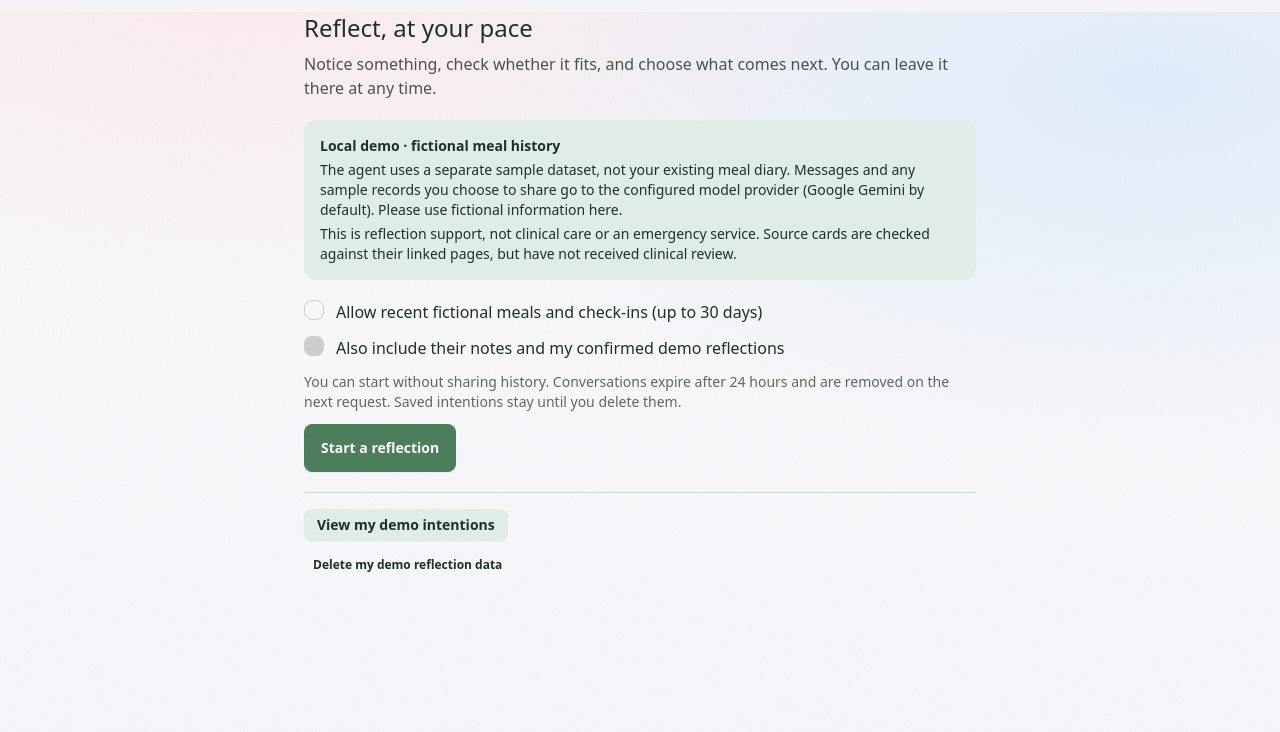
Test case: starts without history permission and preserves input after a failed request
Click the button "Start a reflection" at [380, 448], box [304, 424, 456, 472]
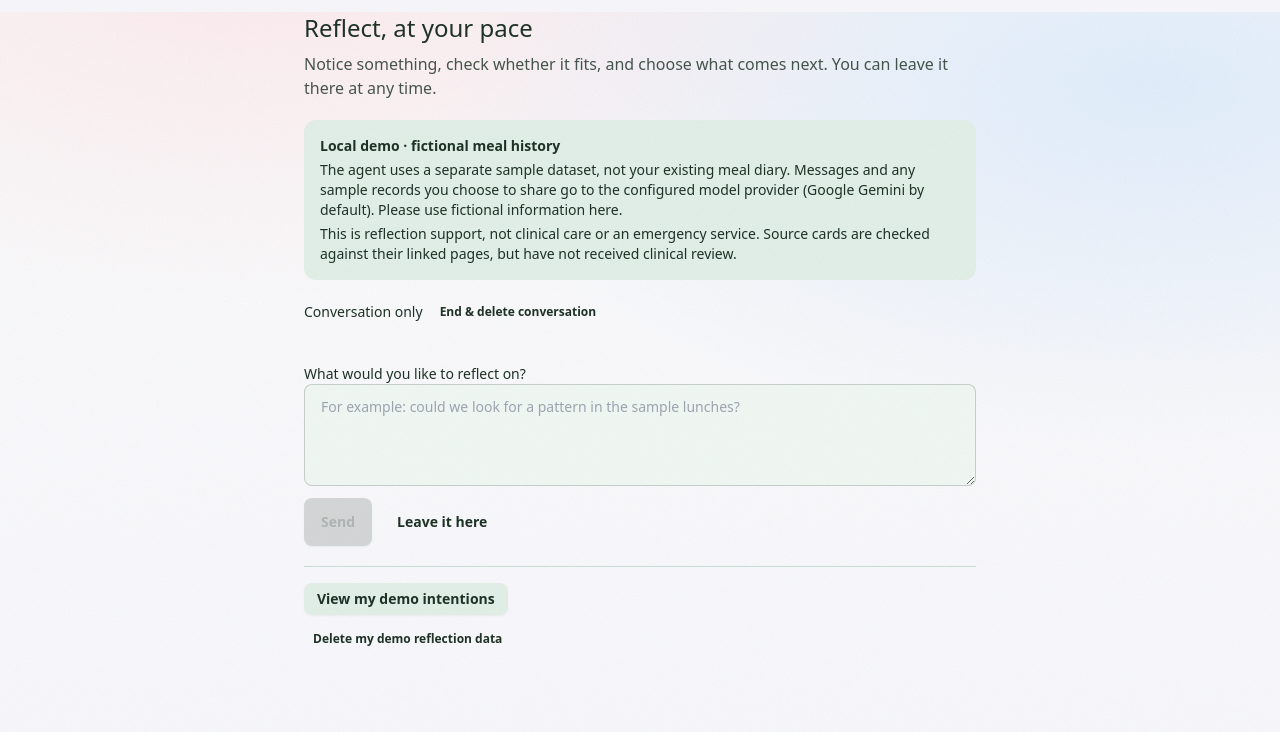
Type "Lunch felt rushed" into the text box labelled "What would you like to reflect on?" at [640, 435], box [304, 384, 976, 486]
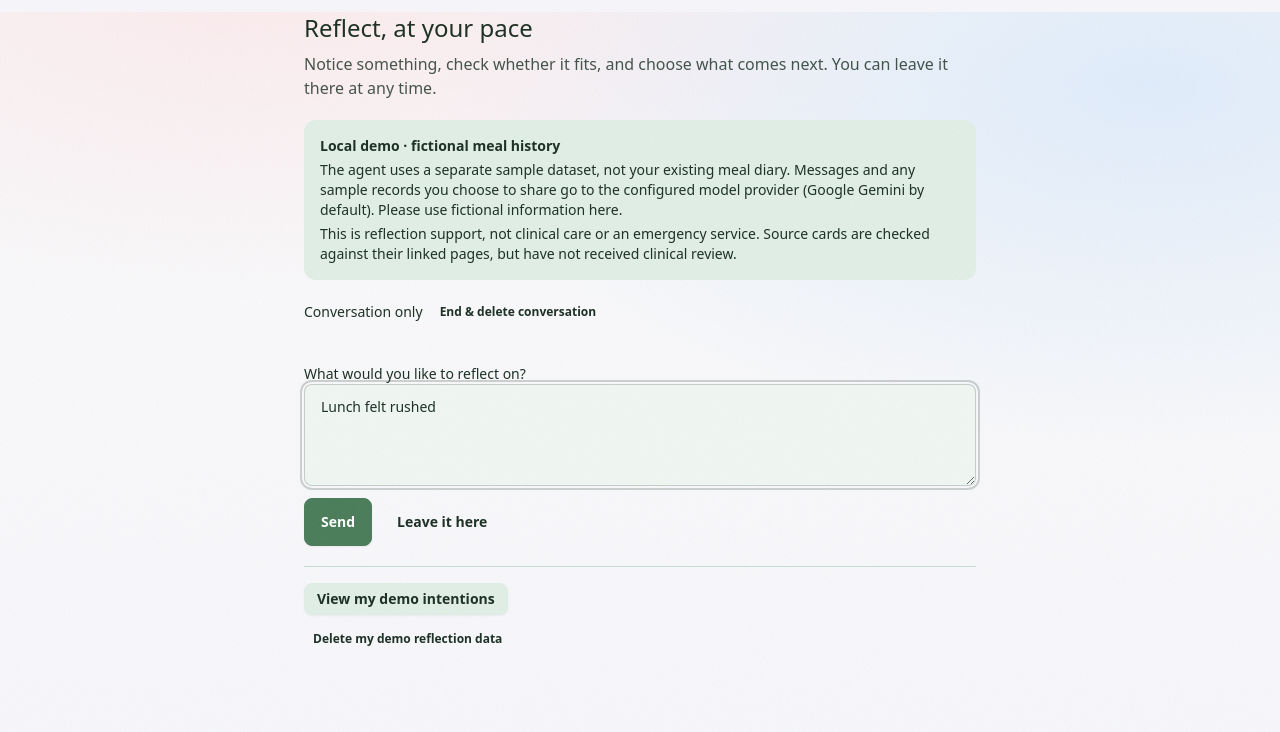
Click the button "Send" at [338, 522], box [304, 498, 372, 546]
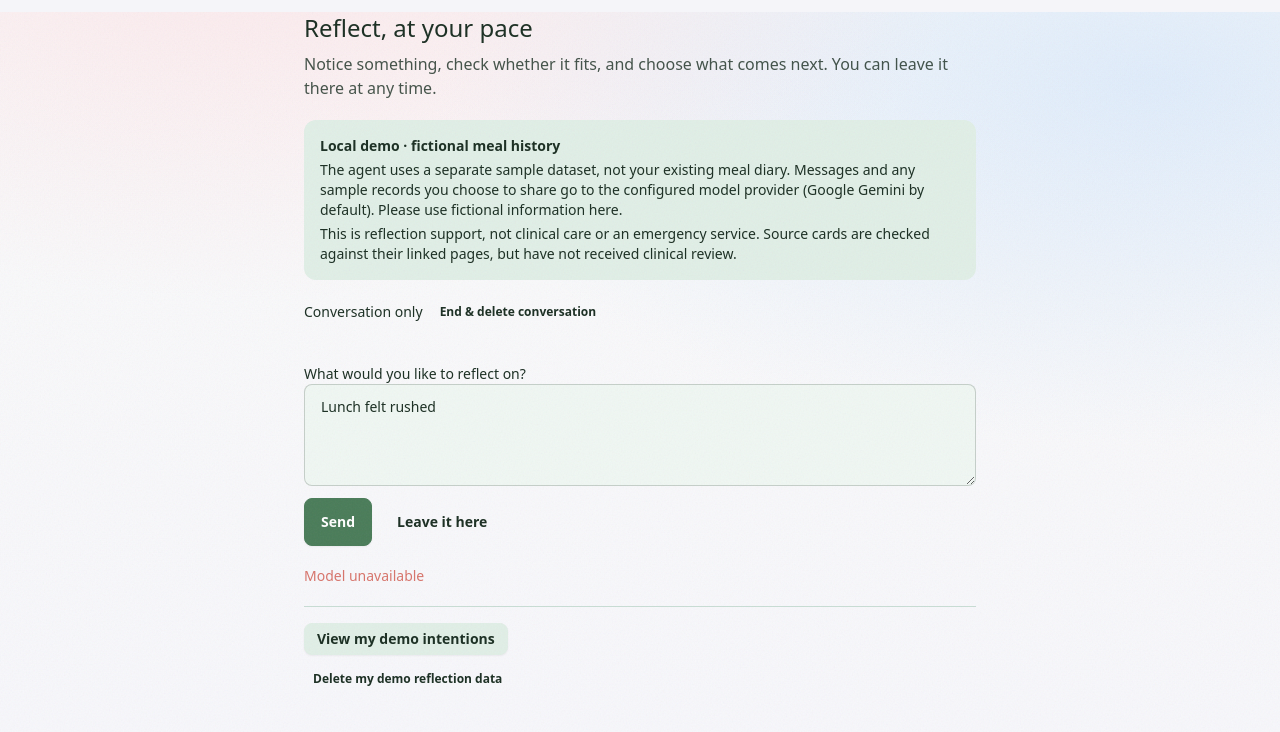
Result: the message reads "Model unavailable" at [304, 566, 424, 585]
